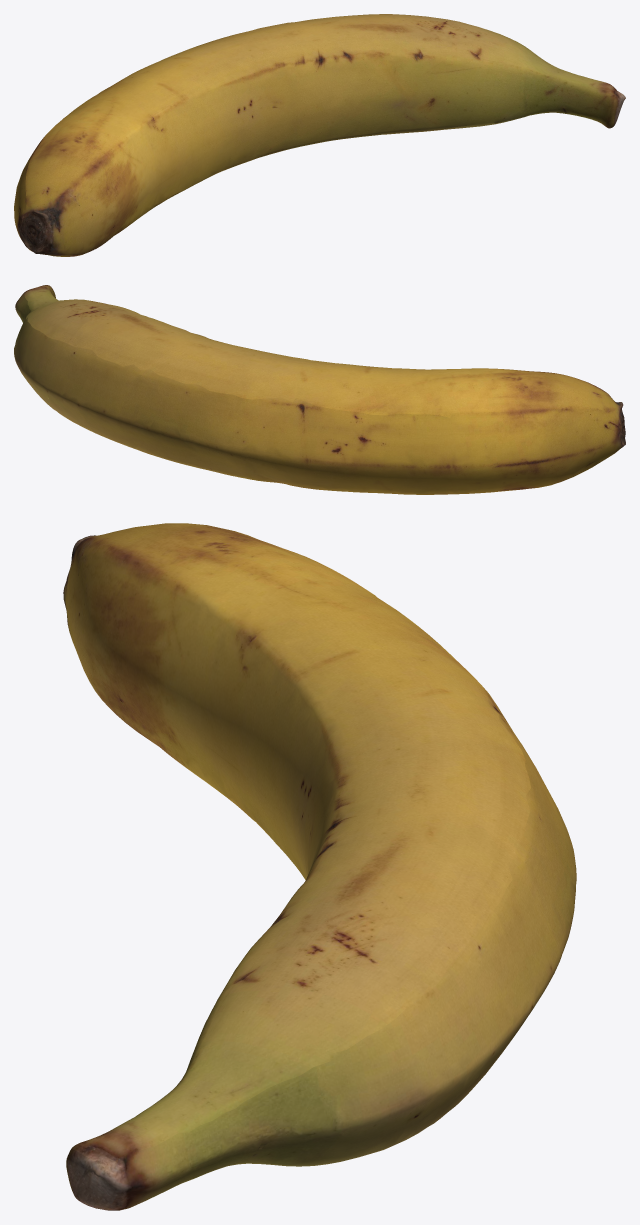
The model's file is banana_hd.dae.
3 views of the same model, one above another, from view 1: azimuth 30°, elevation 25°; view 2: azimuth 150°, elevation 25°; view 3: azimuth 270°, elevation 25° (orthographic). The views are drawn at different scales.
Parts seen in each view (by area): view 1: Banana; view 2: Banana; view 3: Banana.
Boxes of the visible parts, x1=… form: Banana: x1=14, y1=14, x2=625, y2=256; Banana: x1=14, y1=285, x2=625, y2=494; Banana: x1=63, y1=523, x2=576, y2=1210.
Bounding box in the file's own units: 0.2153 × 0.0795 × 0.0369.
Materials: 1 (1 with a texture image).
